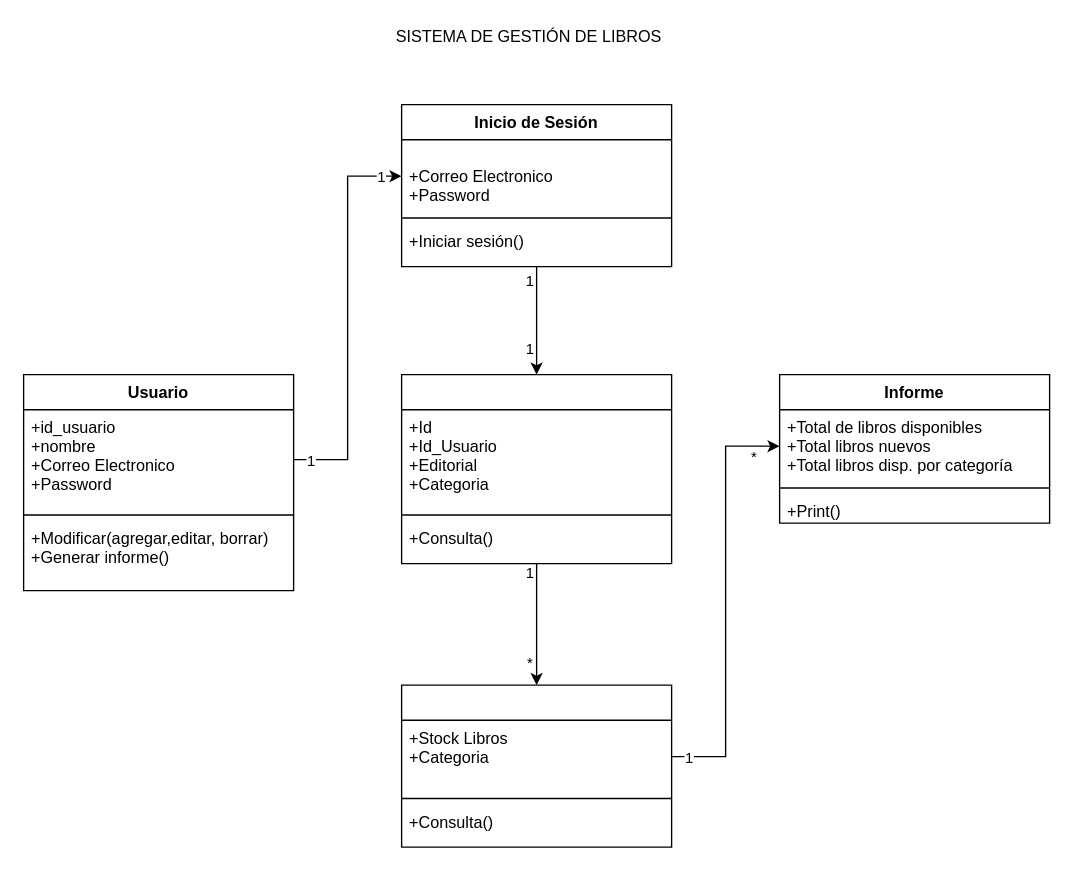
This 1073x873 diagram has some shape labels left out. The shapes that lost their labels are listed below. From the top down, each one's box as (x1, y1, x2, y2) in pixels, then its label:
(400, 373, 672, 564): Libros
(400, 684, 672, 847): Inventario
